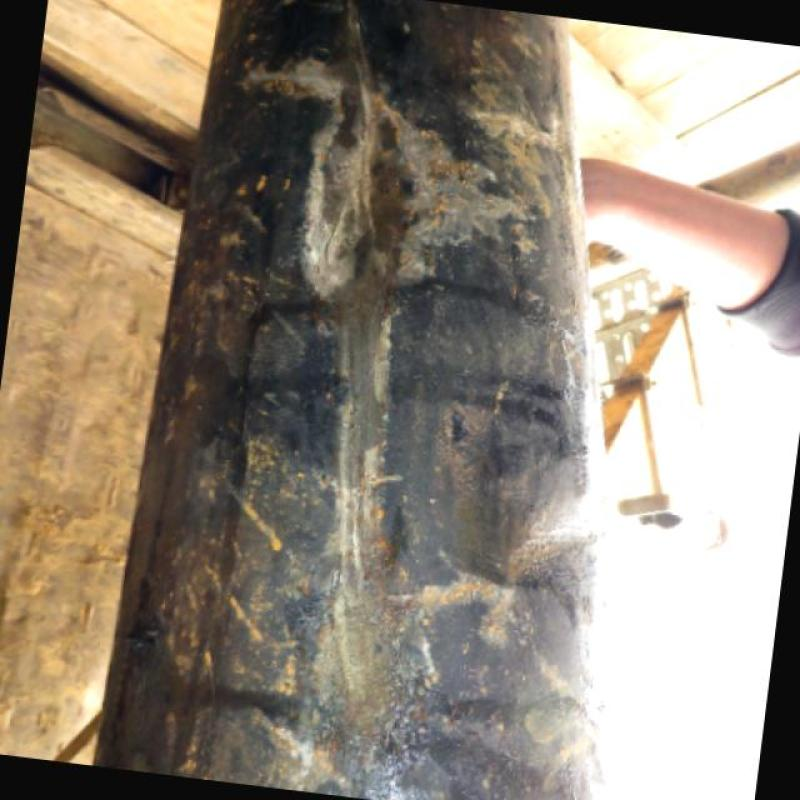Dent: (291, 72, 445, 683)
